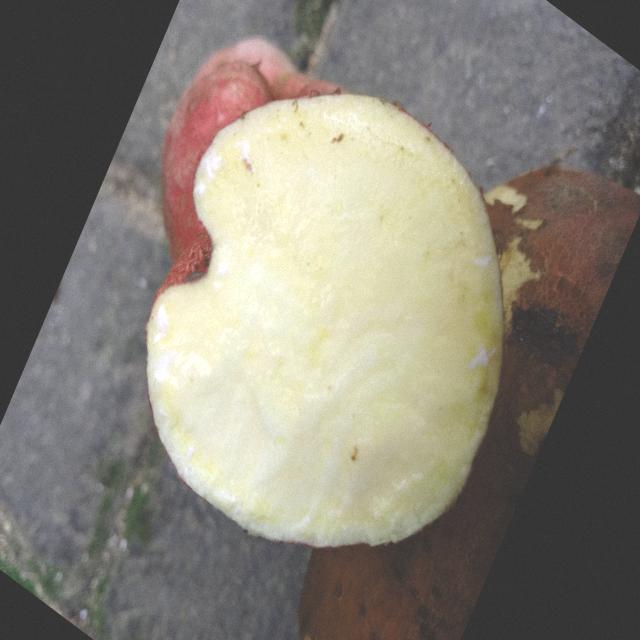Healthy Sweet Potato: (148, 95, 502, 547)
